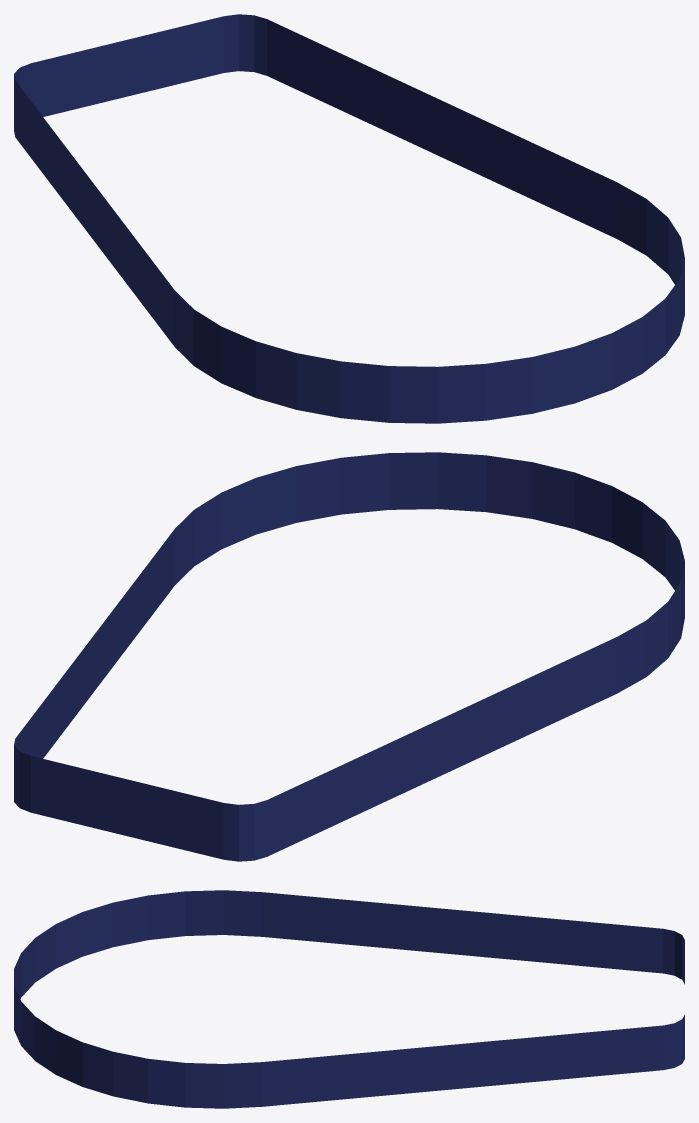
Rendered from base_link_bottom.dae.
3 renders of one model, top to bottom at view 1: azimuth 30°, elevation 25°; view 2: azimuth 150°, elevation 25°; view 3: azimuth 270°, elevation 25°, orthographic. The views are drawn at different scales.
Parts seen in each view (by area): view 1: base_link_bottom; view 2: base_link_bottom; view 3: base_link_bottom.
Boxes of the visible parts, x1,y1,x2,y2 form: base_link_bottom: (14, 14, 684, 423); base_link_bottom: (14, 452, 684, 861); base_link_bottom: (14, 890, 684, 1108).
Size of the model in its own units: 0.15 by 0.2447 by 0.018.
